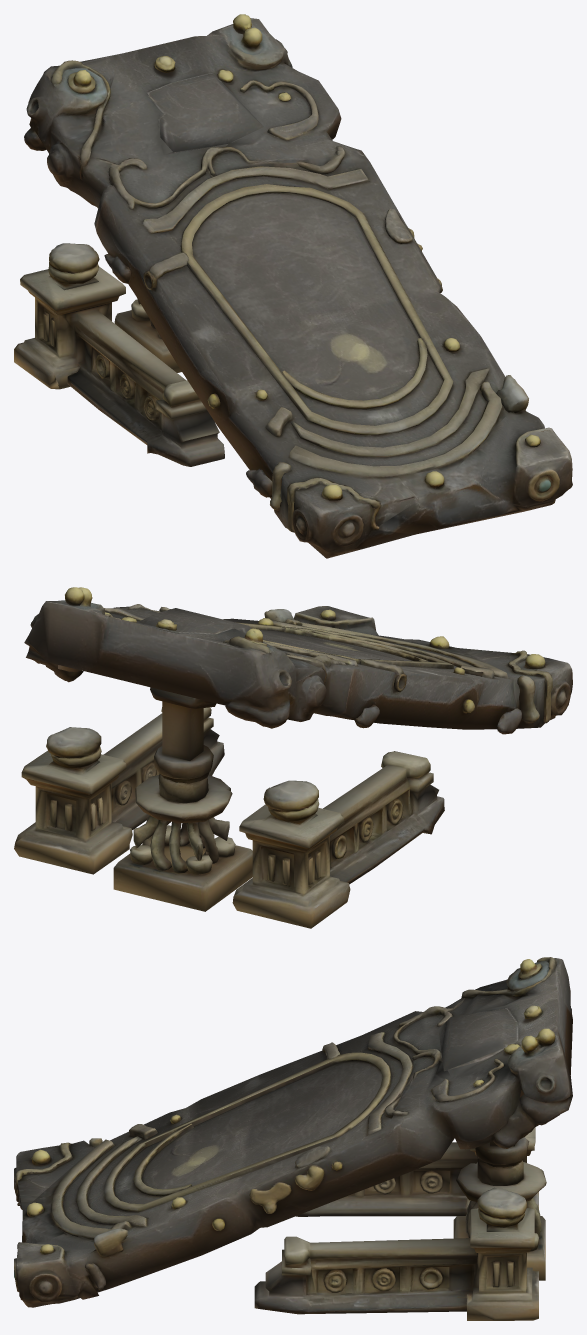
The model's file is ch3_fallen_bridge_deck_chunk.glb.
3 views of the same model, one above another, from view 1: azimuth 30°, elevation 25°; view 2: azimuth 150°, elevation 25°; view 3: azimuth 270°, elevation 25° (orthographic). The views are drawn at different scales.
Visible parts, largest first — view 1: tripo_node_387b3207-5552-40fd-9a3f-8211c666c408; view 2: tripo_node_387b3207-5552-40fd-9a3f-8211c666c408; view 3: tripo_node_387b3207-5552-40fd-9a3f-8211c666c408.
Boxes of the visible parts, <box> form: tripo_node_387b3207-5552-40fd-9a3f-8211c666c408: <box>14,14,572,558</box>; tripo_node_387b3207-5552-40fd-9a3f-8211c666c408: <box>14,587,572,928</box>; tripo_node_387b3207-5552-40fd-9a3f-8211c666c408: <box>14,957,572,1320</box>.
Bounding box in the file's own units: 0.5645 × 0.5293 × 0.998.
1 material, 1 textured.
